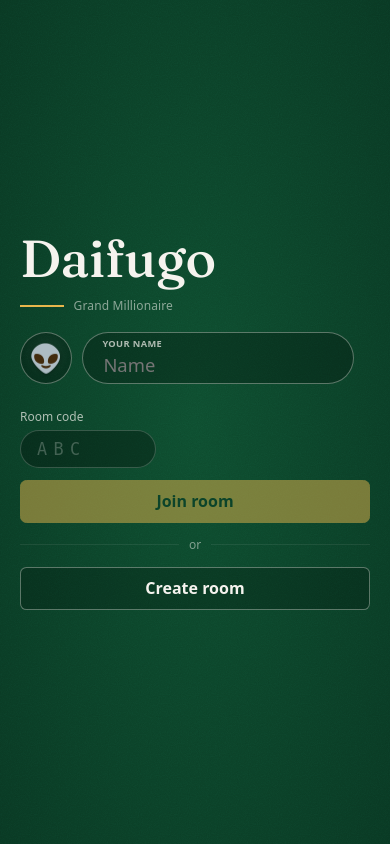
Scenario: the round-end curtain (§10.12) › rejects a pending joiner's name before sending a profile update
The width and height of the screenshot is (390, 844).
Type "Will" into the field labelled "Your name". click: [218, 358]
box: [82,332,354,384]
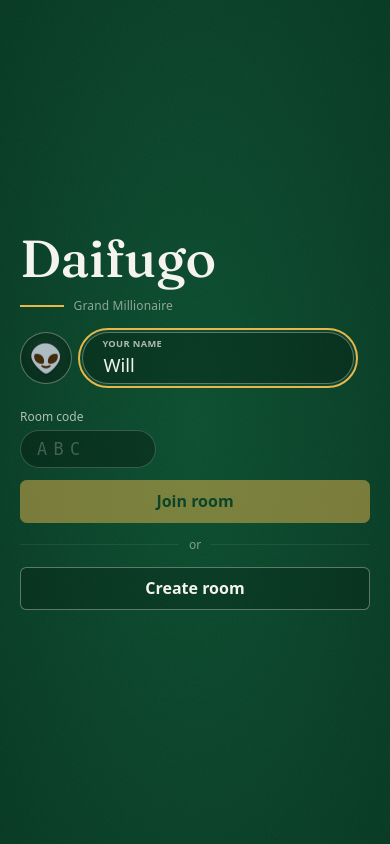
Type "ABC234" into the field labelled "Room code". click: [88, 449]
box: [20,430,156,468]
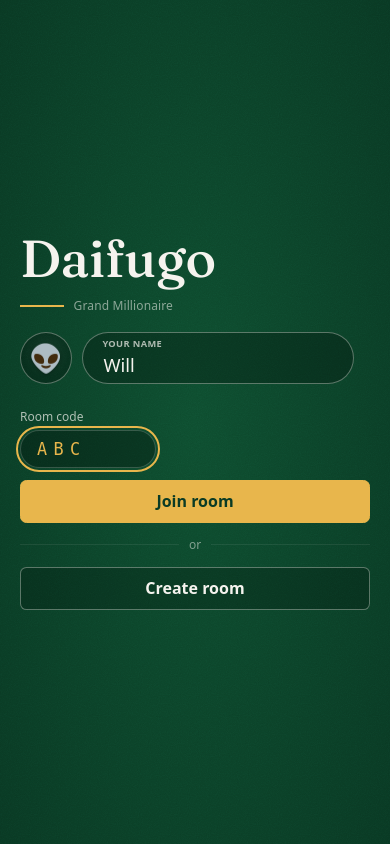
Click the button "Join room". click: [195, 501]
box: [20,480,370,523]
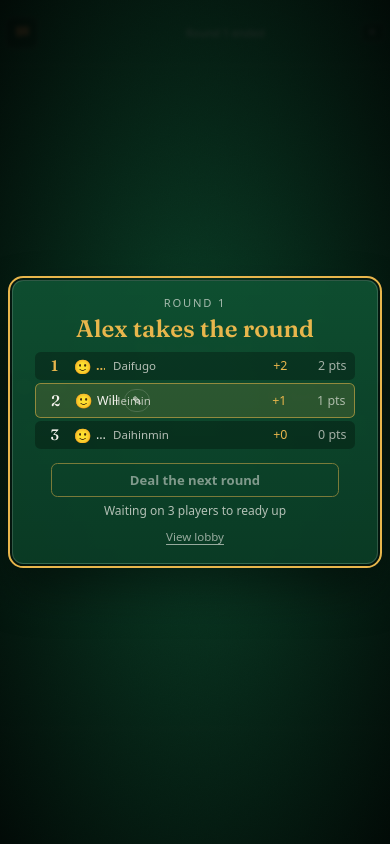
Click the button named "Edit profile". click: [137, 400]
box: [124,388,150,412]
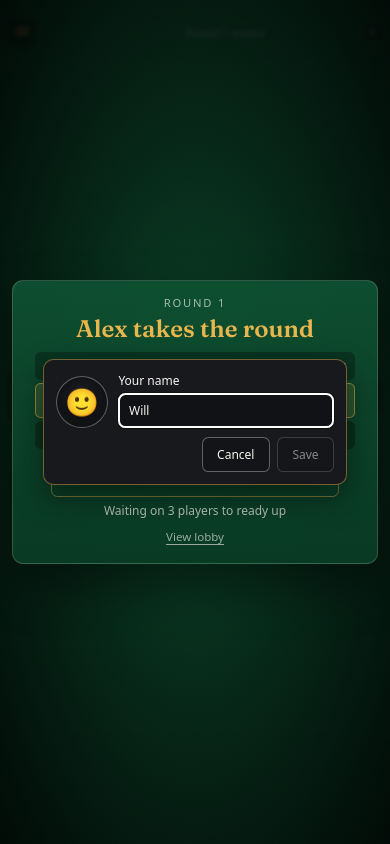
Replace the text in the field labelled "Your name" with "kim". click: [226, 411]
box: [118,393,334,428]
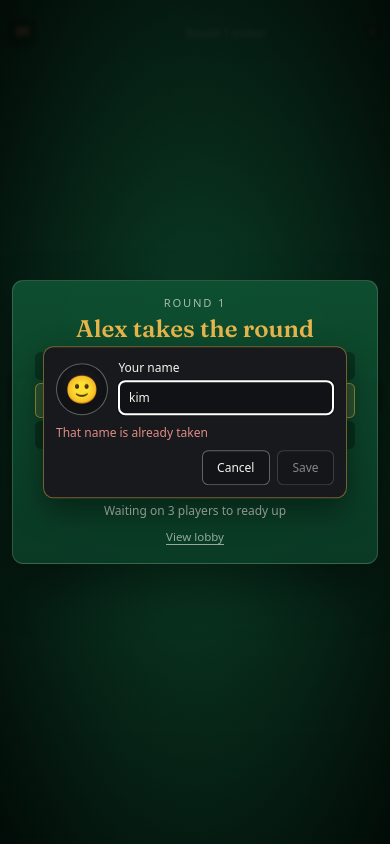
Now the button "Save" is disabled, box [277,450,334,485]
Now the text "That name is already taken" is shown, box [56,424,208,441]
